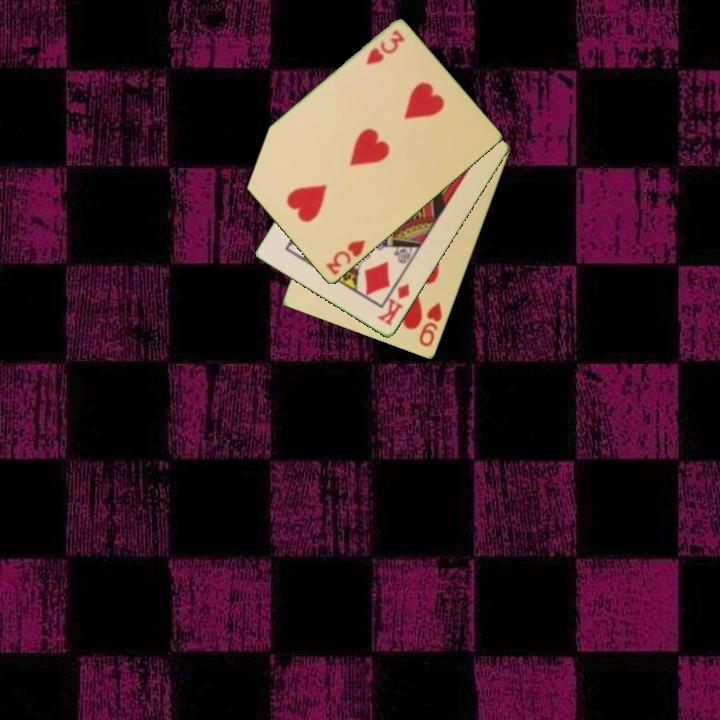3h: (322, 237, 368, 279), (362, 27, 408, 69)
9h: (416, 299, 445, 350)
Kd: (374, 280, 413, 329)
